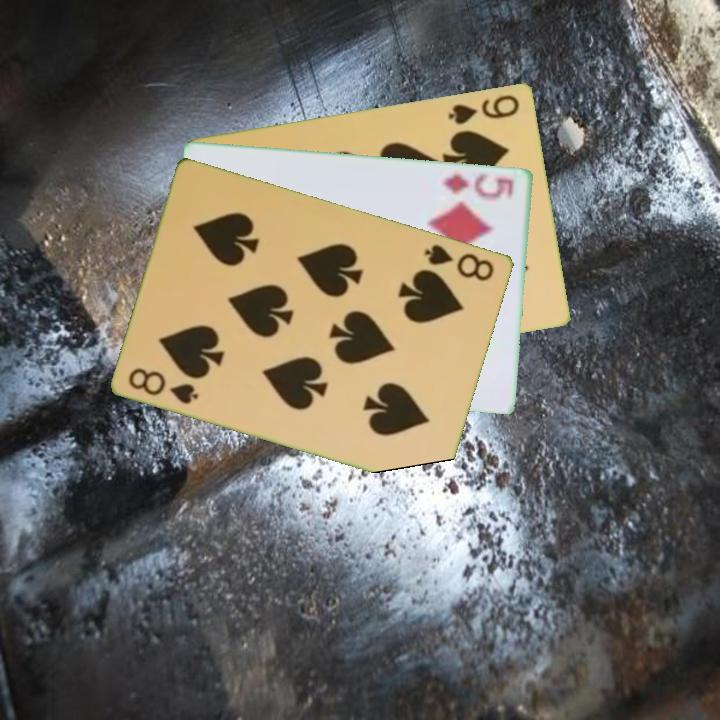5d: (439, 169, 517, 202)
8s: (421, 240, 498, 284), (125, 364, 202, 407)
9s: (445, 90, 523, 127)
